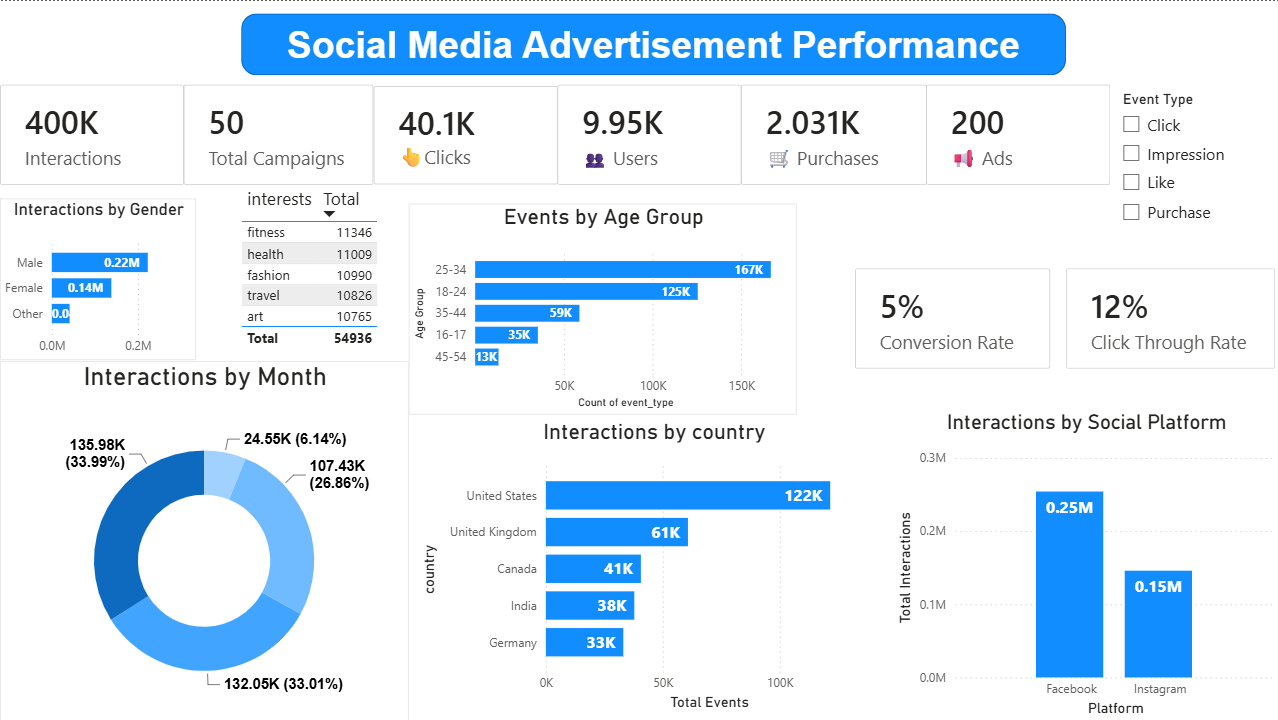

The dashboard page shown, as its layout file describes it:
{"tool":"powerbi","page":{"name":"Dashboard","canvas":[1280,720],"ordinal":0},"visuals":[{"type":"shape","box":[241.5,12.3,824.7,61.7],"z":0},{"type":"donutChart","title":"Interactions by Month","fields":{"Category":["ad_events.timestamp.Variation.Date Hierarchy.Month"],"Y":["CountNonNull(ad_events.event_type)"]},"box":[0,359.5,408.9,360.9],"z":1000},{"type":"cardVisual","fields":{"Data":["Count(ads.ad_id)"]},"box":[926.2,83.7,183.9,100.2],"z":2000},{"type":"cardVisual","fields":{"Data":["CountNonNull(campaigns.campaign_id)"]},"box":[183.9,83.7,189.4,100.2],"z":3000},{"type":"cardVisual","fields":{"Data":["Count(users.user_id)"]},"box":[557.1,83.7,183.9,100.2],"z":4000},{"type":"cardVisual","fields":{"Data":["CountNonNull(ad_events.event_id)"]},"box":[0,83.7,183.9,100.2],"z":5000},{"type":"cardVisual","fields":{"Data":["CountNonNull(ad_events.event_type)"]},"box":[741,83.7,185.2,100.2],"z":6000},{"type":"cardVisual","fields":{"Data":["CountNonNull(ad_events.event_type)"]},"box":[373.2,85.1,183.9,98.8],"z":7000},{"type":"clusteredBarChart","title":"Interactions by Gender","fields":{"Category":["users.user_gender"],"Y":["CountNonNull(ad_events.event_type)"]},"box":[0,197.5,196.2,161.2],"z":8000},{"type":"clusteredBarChart","title":"Events by Age Group","fields":{"Category":["users.age_group"],"Y":["CountNonNull(ad_events.event_type)"]},"box":[408.9,203.1,388.3,211.3],"z":9000},{"type":"slicer","fields":{"Values":["ad_events.event_type"]},"box":[1110.1,85.1,148.2,144.1],"z":10000},{"type":"tableEx","title":"Top Interests","fields":{"Values":["users.interests","ad_events.event_type"]},"box":[241.2,185,140,174.3],"z":11000},{"type":"clusteredBarChart","title":"Interactions by country","fields":{"Category":["users.country"],"Y":["Count(ad_events.event_id)"]},"box":[415.8,417.2,476.2,296.4],"z":12000},{"type":"clusteredColumnChart","title":"Interactions by Social Platform","fields":{"Category":["ads.ad_platform"],"Y":["CountNonNull(ad_events.event_id)"]},"box":[891.9,408.9,388.3,311.5],"z":13000},{"type":"cardVisual","fields":{"Data":["ad_events.CTR"]},"box":[1066.3,267.8,209.1,100.3],"z":14000},{"type":"cardVisual","fields":{"Data":["ad_events.CR"]},"box":[854.9,267.6,194.9,100.2],"z":15000}]}

Visuals, with their boxes in screenshot pixels (x1, y1, x2, y2), scaled from the page's 1280x720 canvas onto the 1278x720 screenshot:
shape: box(241, 12, 1065, 74)
"Interactions by Month" donutChart: box(0, 360, 408, 719)
cardVisual - Count(ads.ad_id): box(925, 84, 1108, 184)
cardVisual - CountNonNull(campaigns.campaign_id): box(184, 84, 373, 184)
cardVisual - Count(users.user_id): box(556, 84, 740, 184)
cardVisual - CountNonNull(ad_events.event_id): box(0, 84, 184, 184)
cardVisual - CountNonNull(ad_events.event_type): box(740, 84, 925, 184)
cardVisual - CountNonNull(ad_events.event_type): box(373, 85, 556, 184)
"Interactions by Gender" clusteredBarChart: box(0, 198, 196, 359)
"Events by Age Group" clusteredBarChart: box(408, 203, 796, 414)
slicer - ad_events.event_type: box(1108, 85, 1256, 229)
"Top Interests" tableEx: box(241, 185, 381, 359)
"Interactions by country" clusteredBarChart: box(415, 417, 891, 714)
"Interactions by Social Platform" clusteredColumnChart: box(891, 409, 1277, 719)
cardVisual - ad_events.CTR: box(1065, 268, 1273, 368)
cardVisual - ad_events.CR: box(854, 268, 1048, 368)
